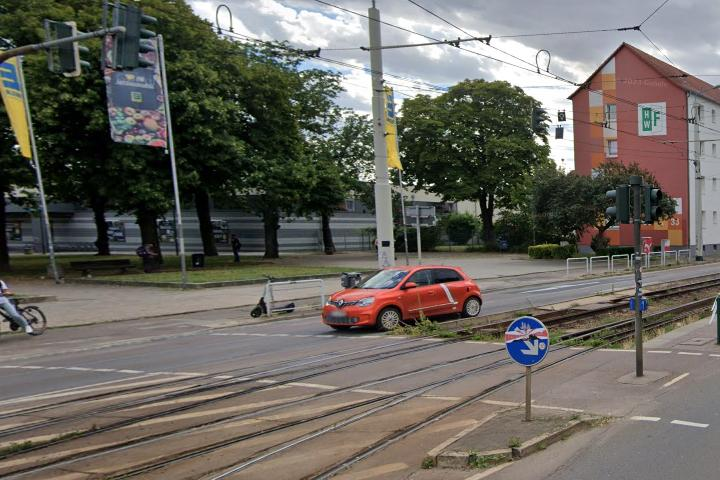traffic_sign: (503, 316, 550, 366)
vehicle: (318, 262, 486, 335)
